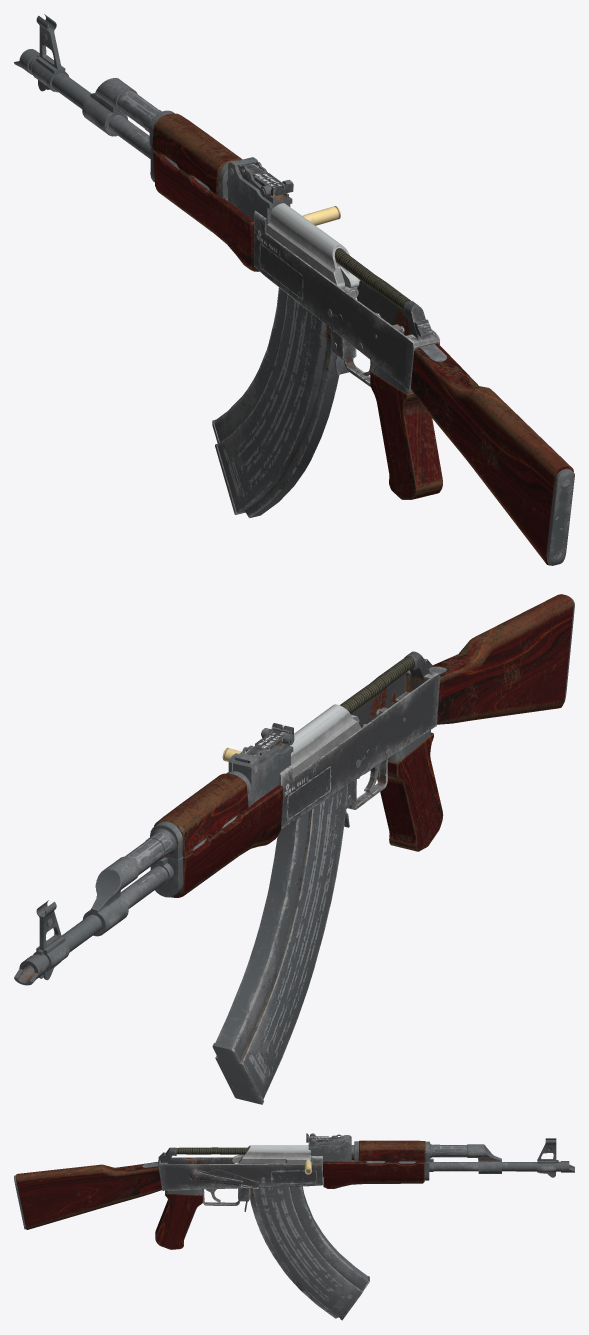
3 renders of one model, top to bottom at view 1: azimuth 30°, elevation 25°; view 2: azimuth 150°, elevation 25°; view 3: azimuth 270°, elevation 25°, orthographic. The views are drawn at different scales.
Visible parts, largest first — view 1: Cube.004, Cube, RECEIVER, Cube.001, Body.000, Body.001, Body.002, Circle.007, IRON_SIGHT, Circle.004, Circle.002; view 2: Cube.004, Cube, RECEIVER, Cube.001, Body.000, Body.002, Body.001, Circle.004, IRON_SIGHT, Circle.007, Circle.002, Circle (+1 smaller); view 3: Cube.004, Cube, RECEIVER, Body.000, Cube.001, Body.002, Body.001, Circle.007, Circle.004, IRON_SIGHT, LEVER, Circle.002.
Part boxes in pixels (x1,y1,x2,y2): Cube.004: [212, 287, 339, 517]; Cube: [411, 343, 574, 565]; RECEIVER: [254, 210, 439, 391]; Cube.001: [370, 371, 442, 499]; Body.000: [153, 151, 259, 271]; Body.001: [152, 113, 242, 195]; Body.002: [14, 14, 227, 200]; Circle.007: [267, 203, 360, 298]; IRON_SIGHT: [228, 157, 293, 232]; Circle.004: [82, 78, 227, 187]; Circle.002: [335, 248, 410, 310]; Cube.004: [212, 785, 348, 1104]; Cube: [432, 594, 574, 724]; RECEIVER: [279, 670, 440, 828]; Cube.001: [377, 732, 443, 851]; Body.000: [171, 785, 283, 897]; Body.002: [14, 815, 236, 985]; Body.001: [154, 773, 248, 856]; Circle.004: [83, 838, 164, 936]; IRON_SIGHT: [228, 723, 294, 804]; Circle.007: [290, 704, 360, 777]; Circle.002: [340, 656, 414, 713]; Circle: [146, 821, 182, 860]; Cube.004: [250, 1186, 369, 1320]; Cube: [14, 1162, 161, 1229]; RECEIVER: [158, 1156, 322, 1211]; Body.000: [323, 1157, 424, 1188]; Cube.001: [155, 1191, 203, 1249]; Body.002: [351, 1138, 574, 1177]; Body.001: [358, 1140, 425, 1162]; Circle.007: [232, 1145, 310, 1163]; Circle.004: [310, 1144, 501, 1173]; IRON_SIGHT: [306, 1133, 351, 1162]; LEVER: [188, 1168, 258, 1188]; Circle.002: [176, 1147, 248, 1154].
Bounding box in the file's own units: 75.79 × 350 × 983.
1 material, 1 textured.
